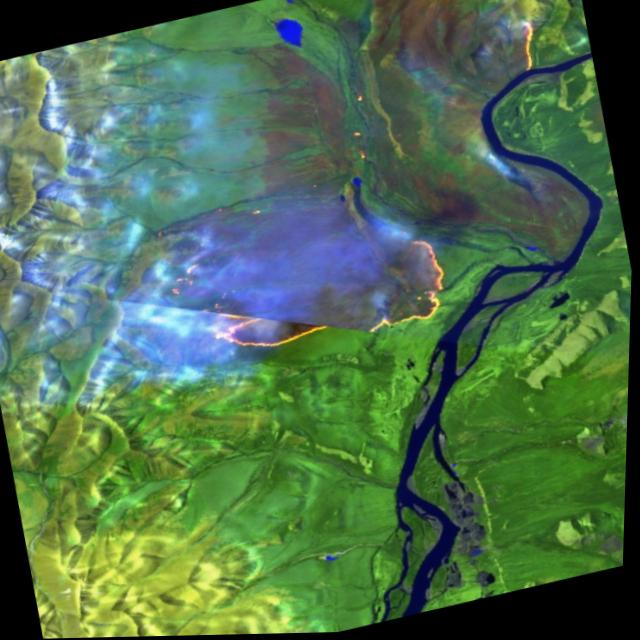fire: (156, 203, 468, 384), (506, 18, 549, 80)
